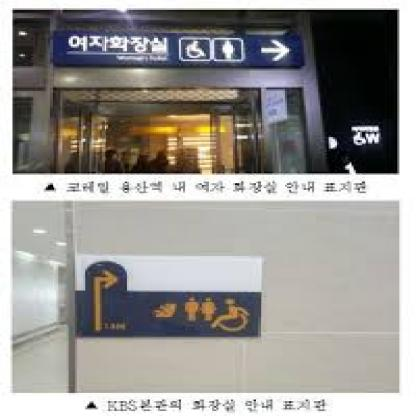toilet: (183, 37, 239, 62)
